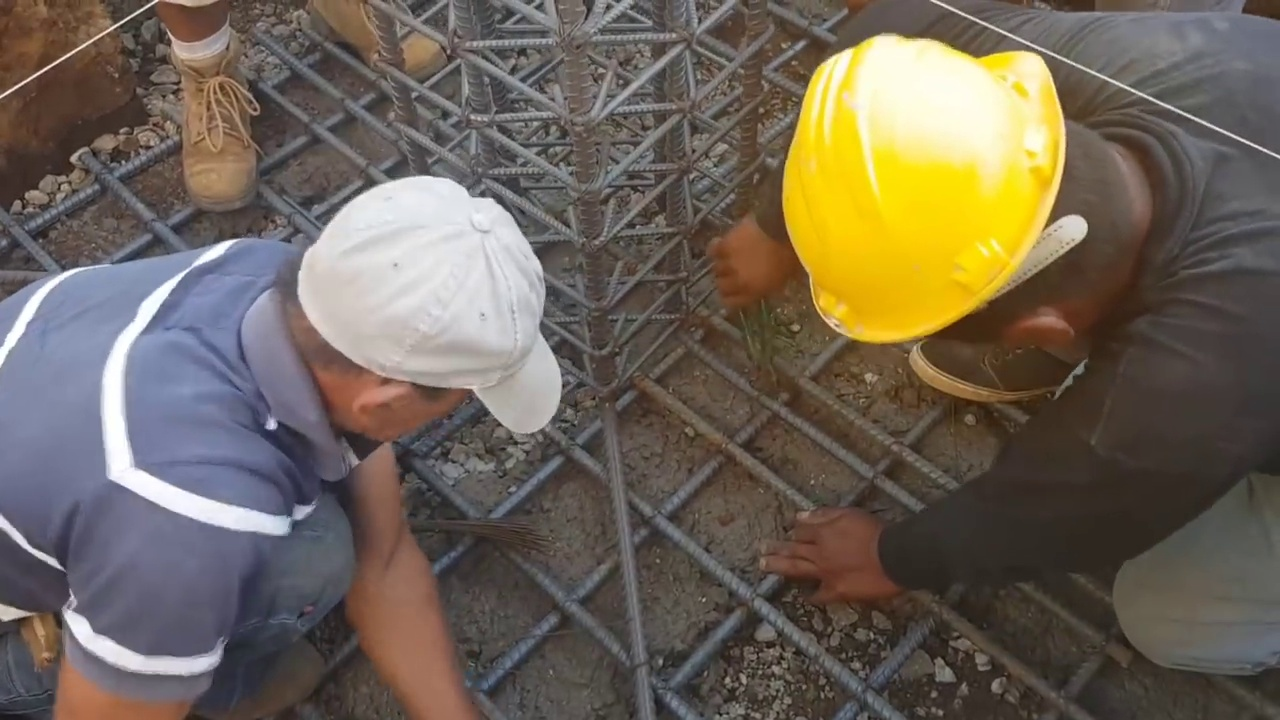helmet: (786, 32, 1064, 347)
helmet-off: (293, 174, 560, 451)
helmet-on: (787, 27, 1186, 354)
person: (701, 0, 1279, 686), (0, 167, 566, 720)
